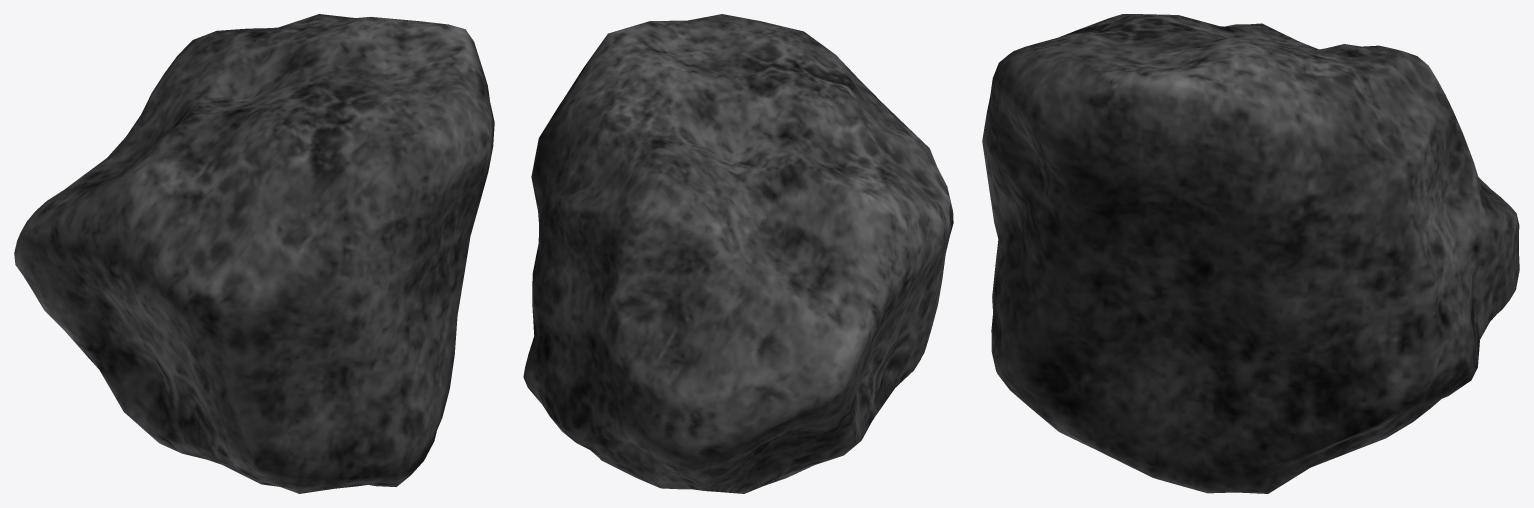
The model's file is Asteroid_5.fbx.
3 views of the same model, side by side, from view 1: azimuth 30°, elevation 25°; view 2: azimuth 150°, elevation 25°; view 3: azimuth 270°, elevation 25° (orthographic). The views are drawn at different scales.
Visible parts, largest first — view 1: Asteroid_no_5; view 2: Asteroid_no_5; view 3: Asteroid_no_5.
Boxes of the visible parts, x1,y1,x2,y2 form: Asteroid_no_5: (14,14,494,493); Asteroid_no_5: (523,14,953,493); Asteroid_no_5: (982,14,1519,493).
Bounding box in the file's own units: 563 × 595 × 640.
Materials: 1 (1 with a texture image).
